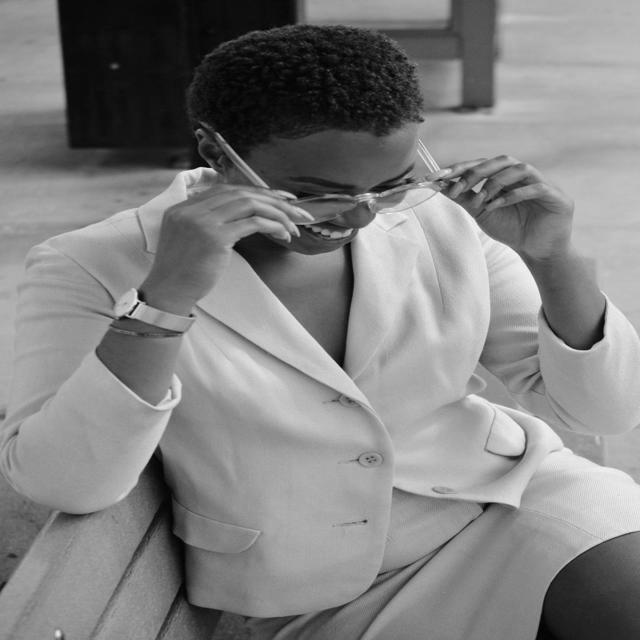Happiness: (220, 115, 428, 257)
